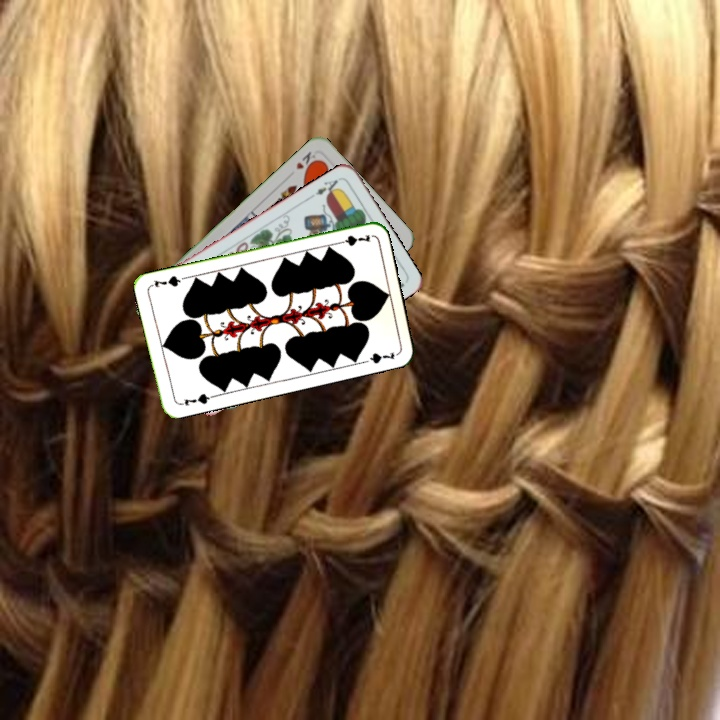EA: (307, 174, 343, 201)
G7: (332, 230, 373, 249), (175, 389, 216, 408)
HK: (292, 147, 321, 175)
